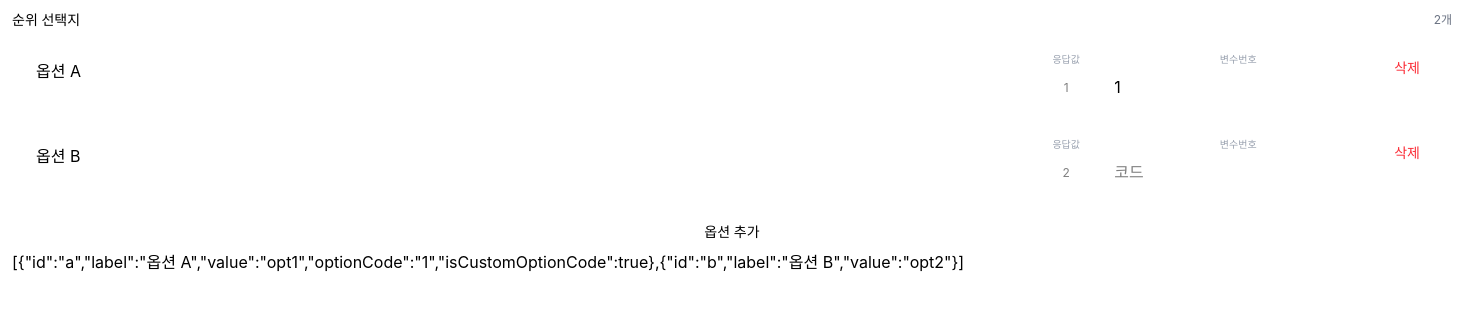
Test: RankingOptionsEditor 응답값(변수번호) 입력 배선 › 다른 옵션의 코드와 중복되면 blur 후 경고가 뜨고 value 동기화가 보류된다
Type "1" into the field with placeholder "코드".
click(1238, 172); type("1")  # box [1102,154,1374,190]
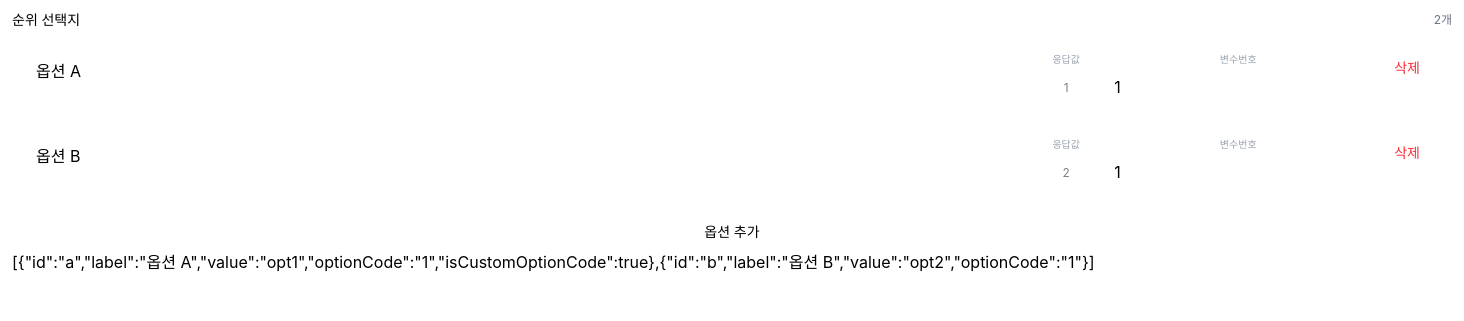
Press Tab
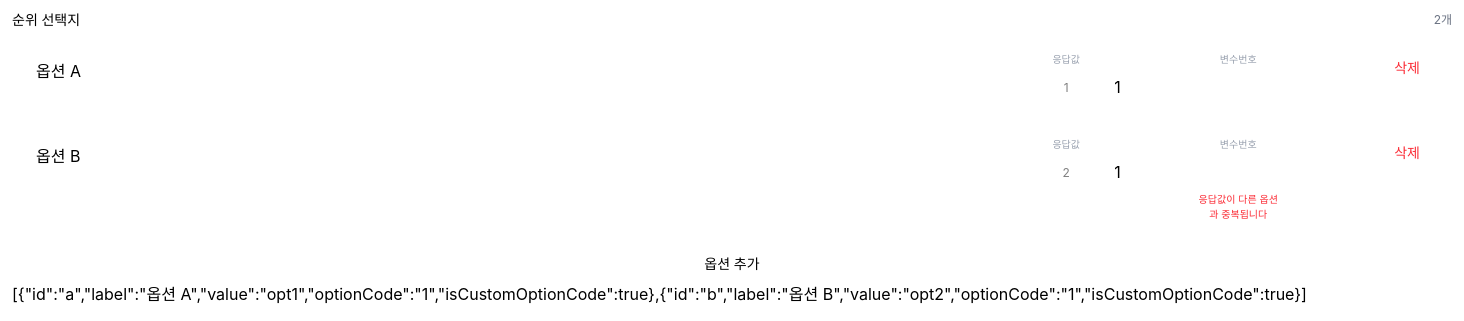
Expected: the text with test id "options-dump" shows "\"value\":\"opt2\"", [12,284,1307,304]
Now the text "응답값이 다른 옵션과 중복됩니다" is shown, box [1198,192,1278,222]
